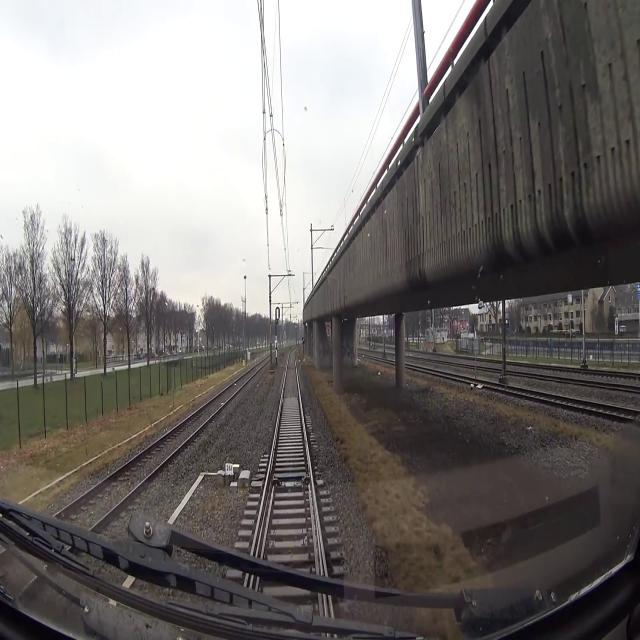rail-track: (60, 370, 254, 526), (265, 352, 313, 570), (605, 408, 640, 417)
